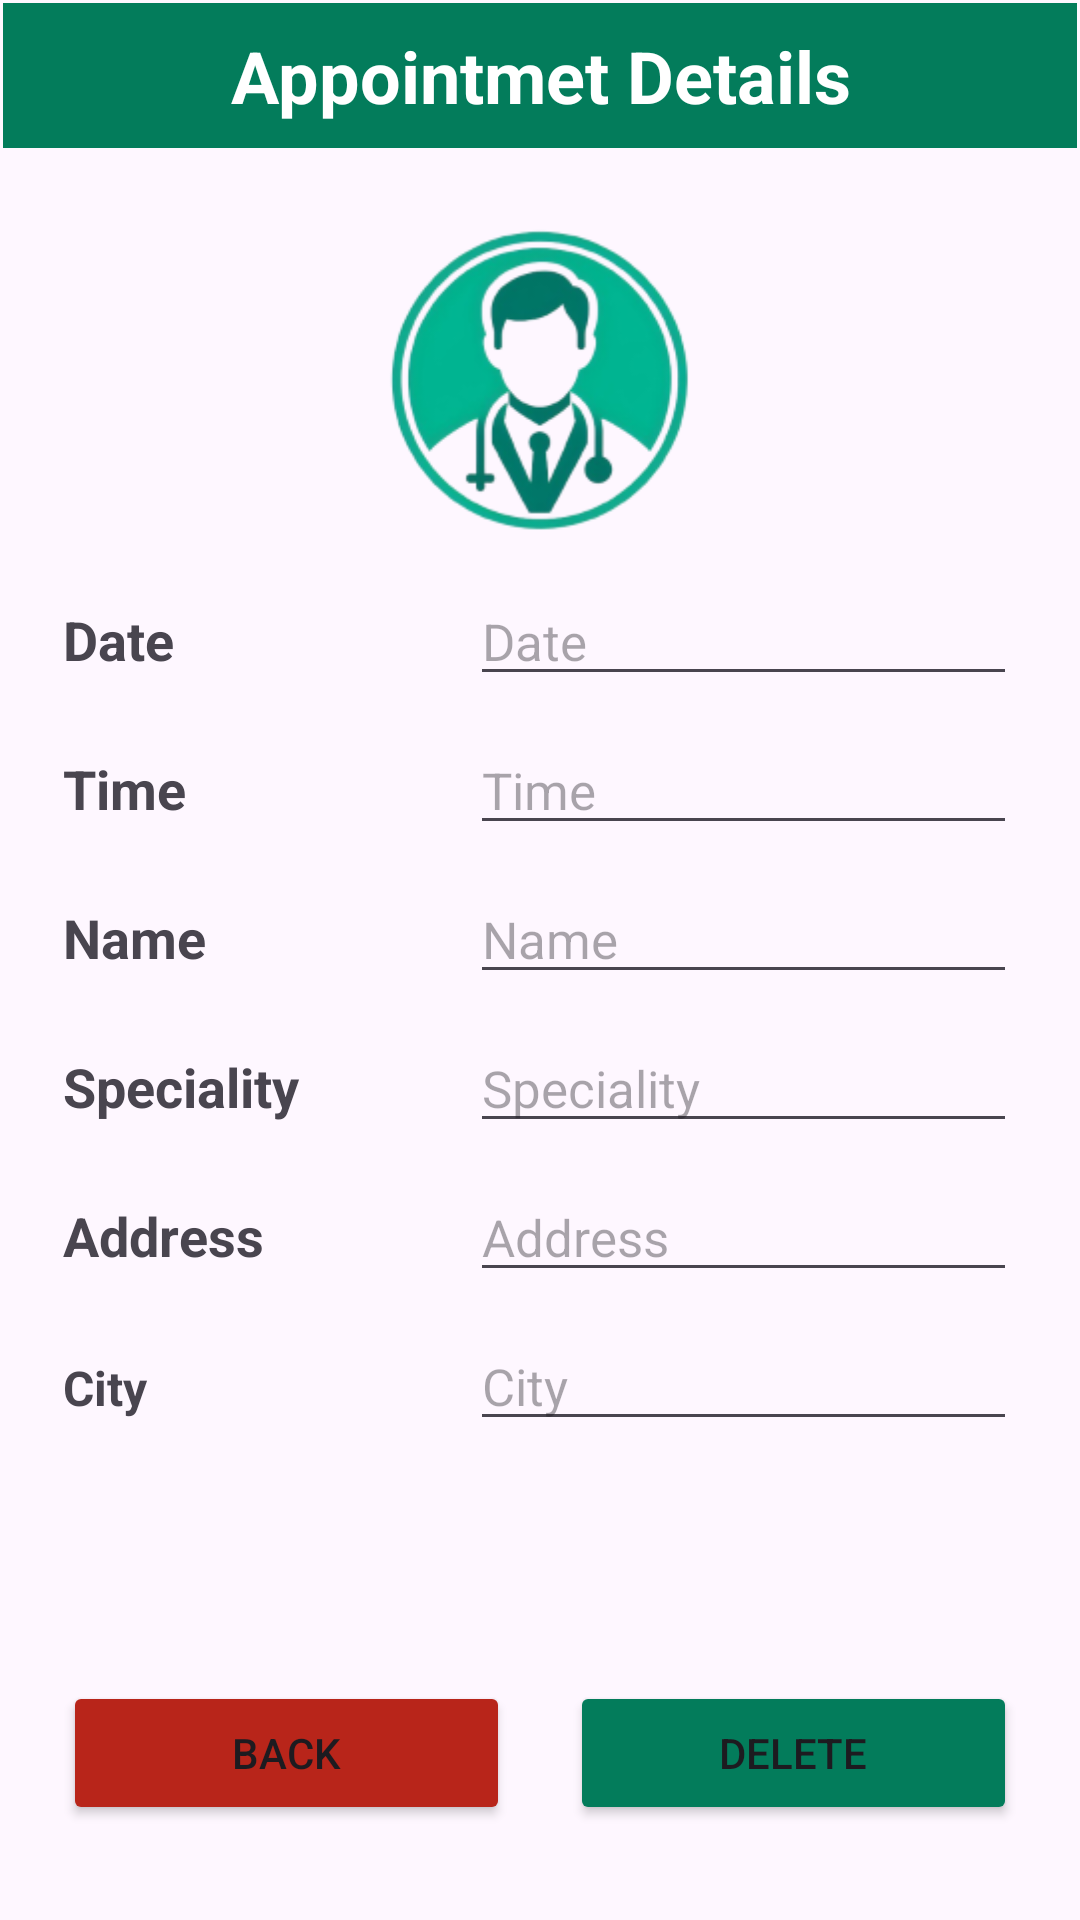

Icons on this 1080*1920 Android screen, each with its box as box(x1, y1, x2, y2):
prof: box(391, 231, 688, 530)
